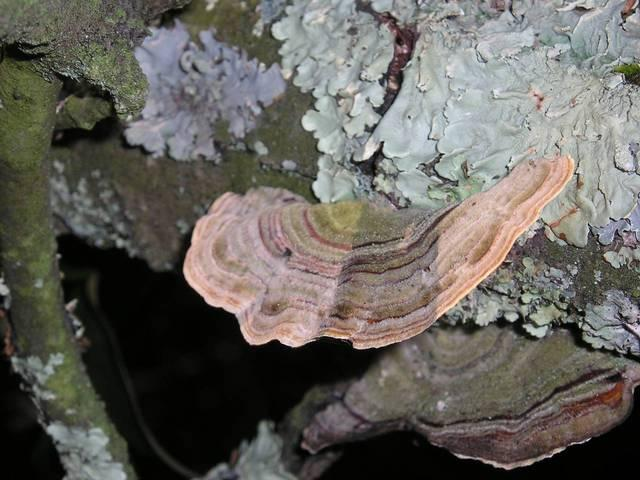Non-edible Mushroom: (180, 150, 576, 351)
